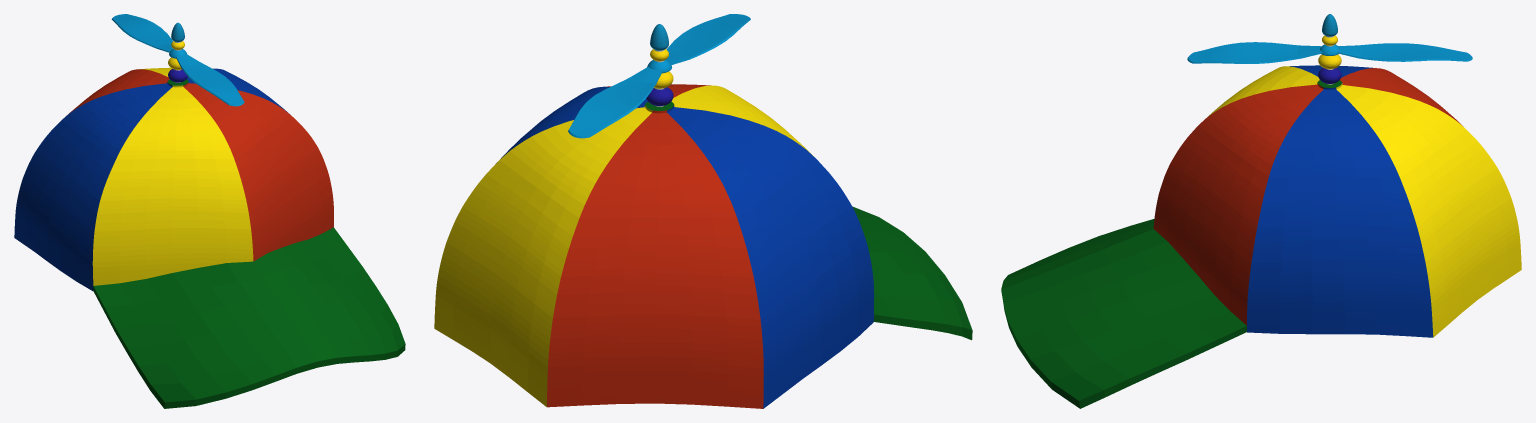
Rendered from PatHut.fbx COOL.fbx.
3 views of the same model, side by side, from view 1: azimuth 30°, elevation 25°; view 2: azimuth 150°, elevation 25°; view 3: azimuth 270°, elevation 25° (orthographic). The views are drawn at different scales.
Visible parts, largest first — view 1: Grün Teil, Gelb Teil, Blau Teil, Rot Teil, Propeller; view 2: Rot Teil, Gelb Teil, Blau Teil, Grün Teil, Propeller; view 3: Blau Teil, Grün Teil, Gelb Teil, Rot Teil, Propeller.
Boxes of the visible parts, <box> form: Grün Teil: <box>93,79,405,408</box>; Gelb Teil: <box>92,67,253,285</box>; Blau Teil: <box>14,68,290,290</box>; Rot Teil: <box>66,69,333,261</box>; Propeller: <box>111,14,244,106</box>; Rot Teil: <box>547,84,763,408</box>; Gelb Teil: <box>434,85,813,406</box>; Blau Teil: <box>496,86,874,408</box>; Grün Teil: <box>645,101,972,340</box>; Propeller: <box>568,14,750,138</box>; Blau Teil: <box>1247,65,1433,337</box>; Grün Teil: <box>1001,80,1342,408</box>; Gelb Teil: <box>1205,66,1521,337</box>; Rot Teil: <box>1153,68,1463,325</box>; Propeller: <box>1187,42,1472,63</box>.
Size of the model in its own units: 672 by 716 by 1037.
